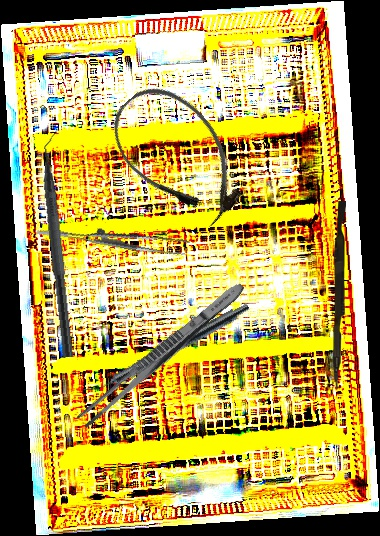Cannula: (96, 70, 261, 241)
Chopper: (35, 126, 89, 358)
Dressing Forceps: (75, 277, 249, 432)
Handpiece: (81, 298, 252, 402)
Pusher: (333, 201, 346, 389)
Tissue Forceps: (36, 204, 190, 271)
